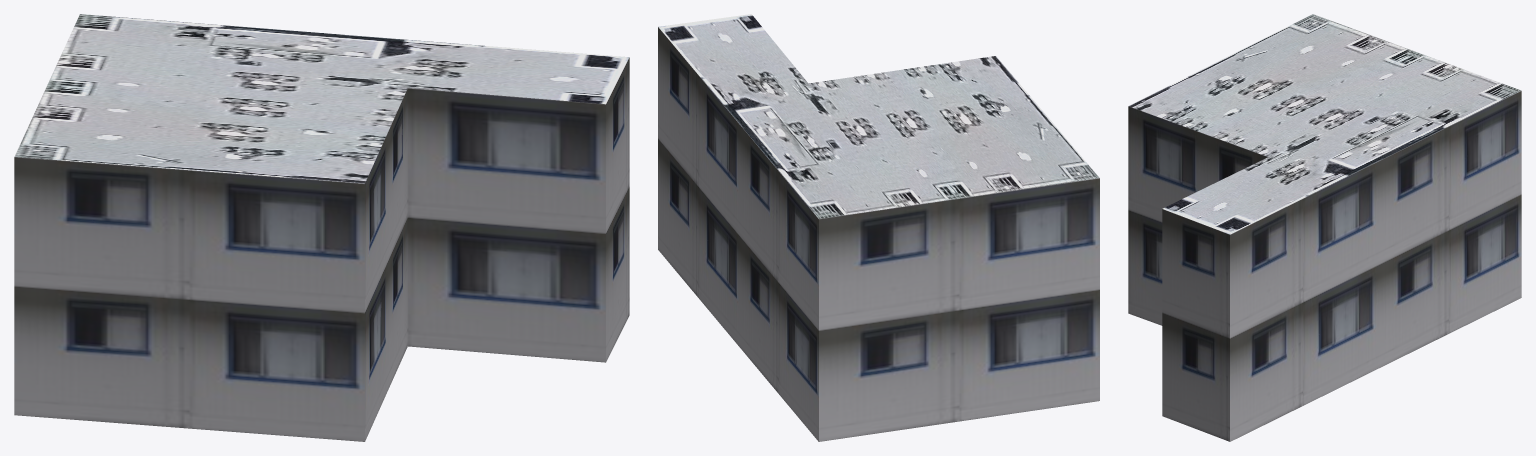
Rendered from ResTex__5336.fbx.
3 views of the same model, side by side, from view 1: azimuth 30°, elevation 25°; view 2: azimuth 150°, elevation 25°; view 3: azimuth 270°, elevation 25° (orthographic). The views are drawn at different scales.
Visible parts, largest first — view 1: CityEngineMaterial_9_m, CityEngineMaterial_8_m; view 2: CityEngineMaterial_9_m, CityEngineMaterial_8_m; view 3: CityEngineMaterial_9_m, CityEngineMaterial_8_m.
Part boxes in pixels (box(x1,y1,x2,y2)): CityEngineMaterial_9_m: box(14, 57, 629, 441); CityEngineMaterial_8_m: box(14, 14, 629, 183); CityEngineMaterial_9_m: box(658, 27, 1099, 441); CityEngineMaterial_8_m: box(658, 14, 1099, 218); CityEngineMaterial_9_m: box(1128, 91, 1521, 441); CityEngineMaterial_8_m: box(1128, 14, 1521, 234).
Bounding box in the file's own units: 13.7 × 6 × 10.32.
Materials: 2 (2 with a texture image).
